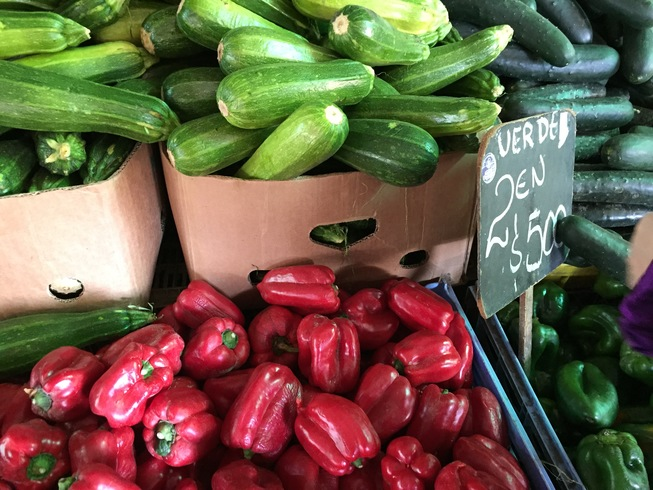precio: (475, 113, 584, 309)
